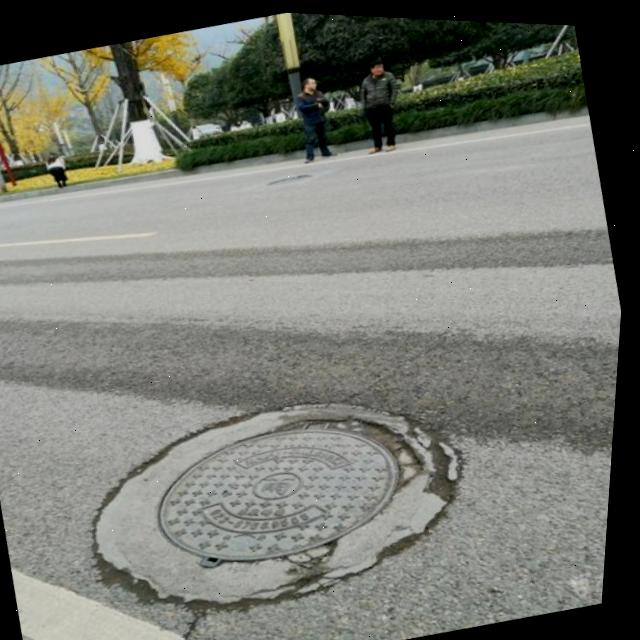manhole: (83, 350, 506, 626)
